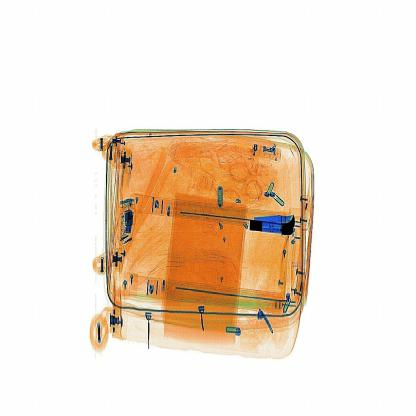knife: (245, 204, 300, 236)
